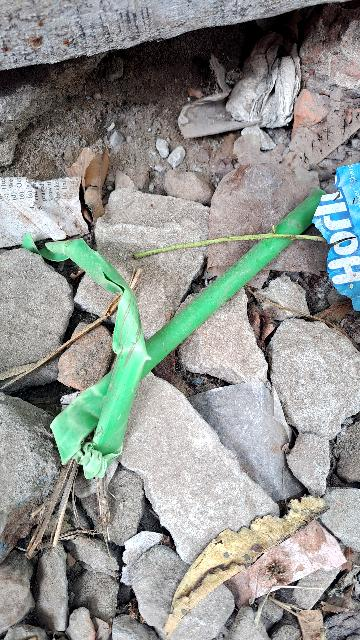hardplastic: (28, 141, 338, 489)
